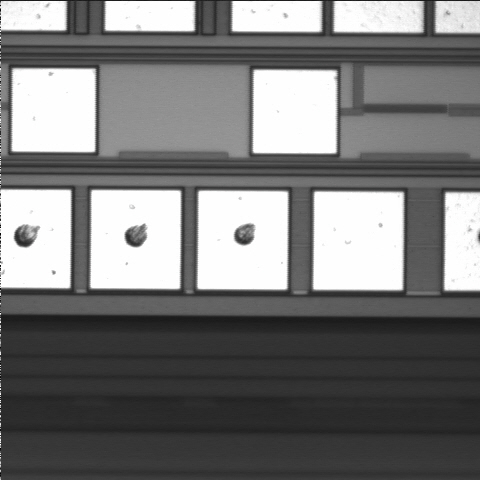pad: (91, 190, 181, 289), (198, 191, 288, 289), (313, 192, 403, 290), (253, 70, 337, 153), (12, 69, 95, 152)
